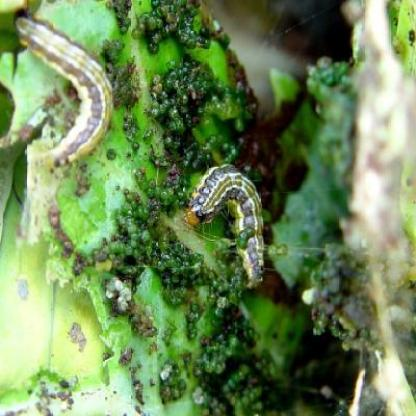armyworm: (13, 3, 117, 170), (189, 159, 264, 285)
